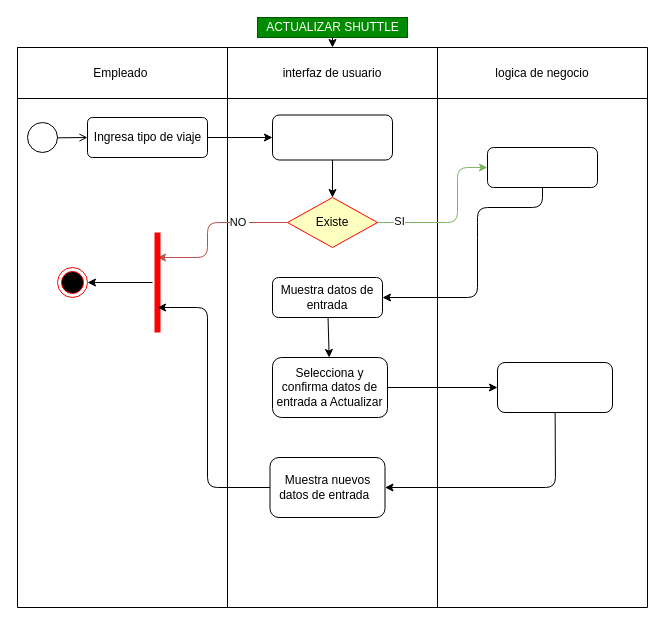
Image size: 665x625. Some labels were removed from this diagram. Each missing label, with the centre of its shape:
Almacena datos de de entrada: point (554, 387)
Consulta datos de entrada: point (542, 167)
Ingresa datos de entrada: point (332, 137)
